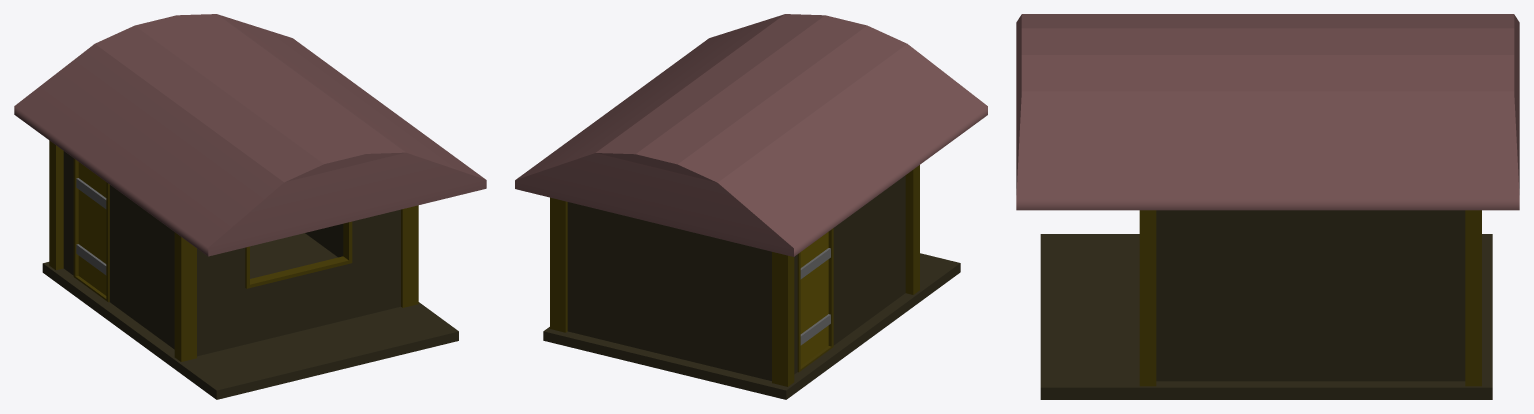
File: Broker.fbx
3 views of the same model, side by side, from view 1: azimuth 30°, elevation 25°; view 2: azimuth 150°, elevation 25°; view 3: azimuth 270°, elevation 25° (orthographic). The views are drawn at different scales.
Parts seen in each view (by area): view 1: Broker, Door; view 2: Broker, Door; view 3: Broker.
Boxes of the visible parts, left/top/right/bottom form: Broker: left=14, top=14, right=486, bottom=399; Door: left=76, top=162, right=106, bottom=295; Broker: left=515, top=14, right=987, bottom=399; Door: left=800, top=232, right=830, bottom=365; Broker: left=1016, top=14, right=1519, bottom=399.
Size of the model in its own units: 14.52 by 10.8 by 17.5.
